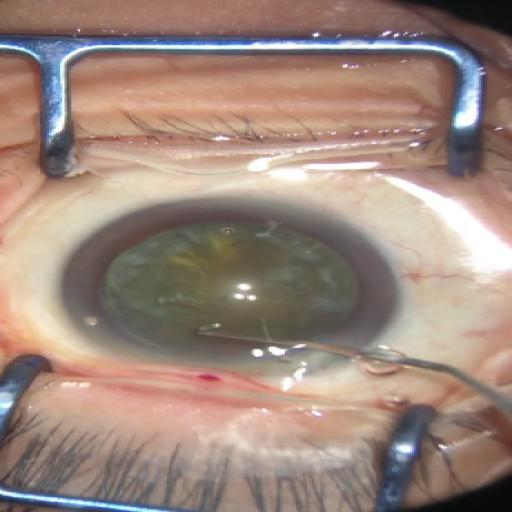catarata: (114, 222, 342, 358)
cornea: (60, 197, 399, 376)
pupil: (101, 221, 356, 362)
